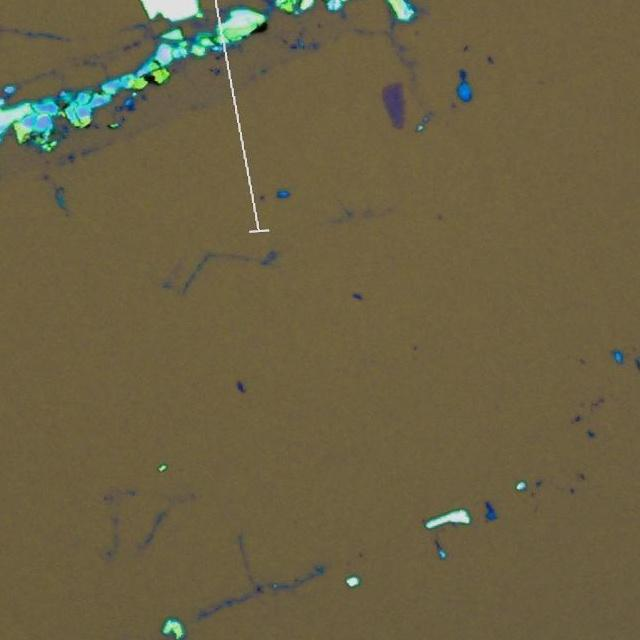monolayer-eWW4: (380, 77, 408, 129)
